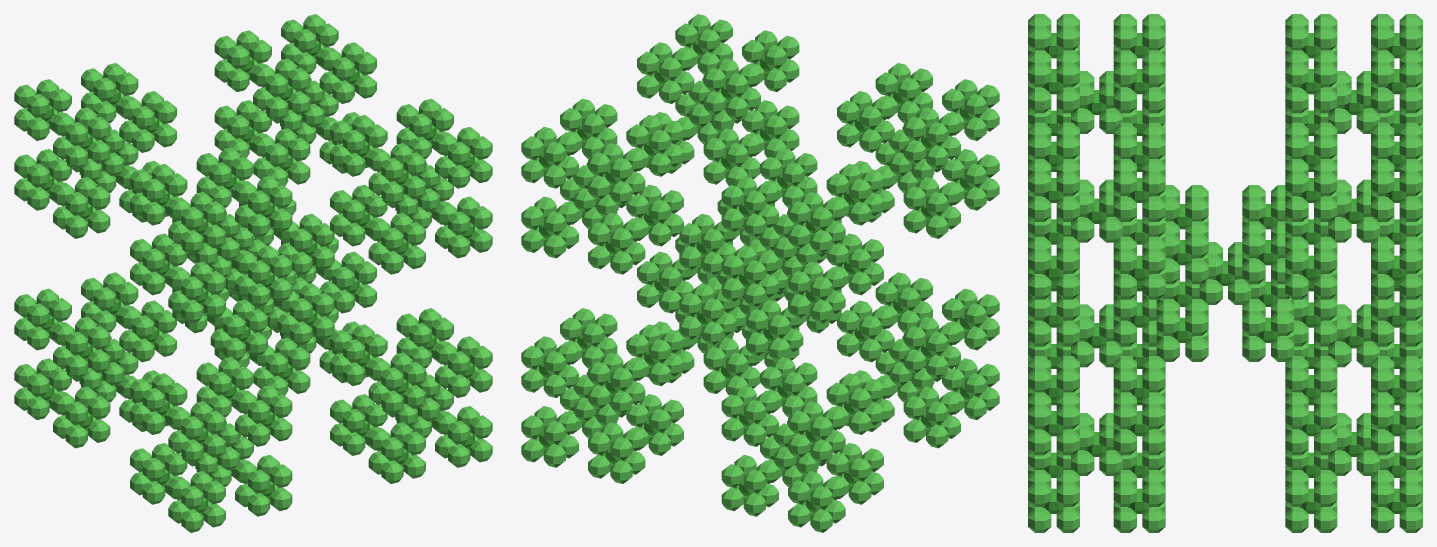
File: fractalrhombicuboctahedron3.glb
3 renders of one model, left to right at view 1: azimuth 30°, elevation 25°; view 2: azimuth 150°, elevation 25°; view 3: azimuth 270°, elevation 25°, orthographic. The views are drawn at different scales.
Size of the model in its own units: 6.33 by 6.33 by 6.33.
